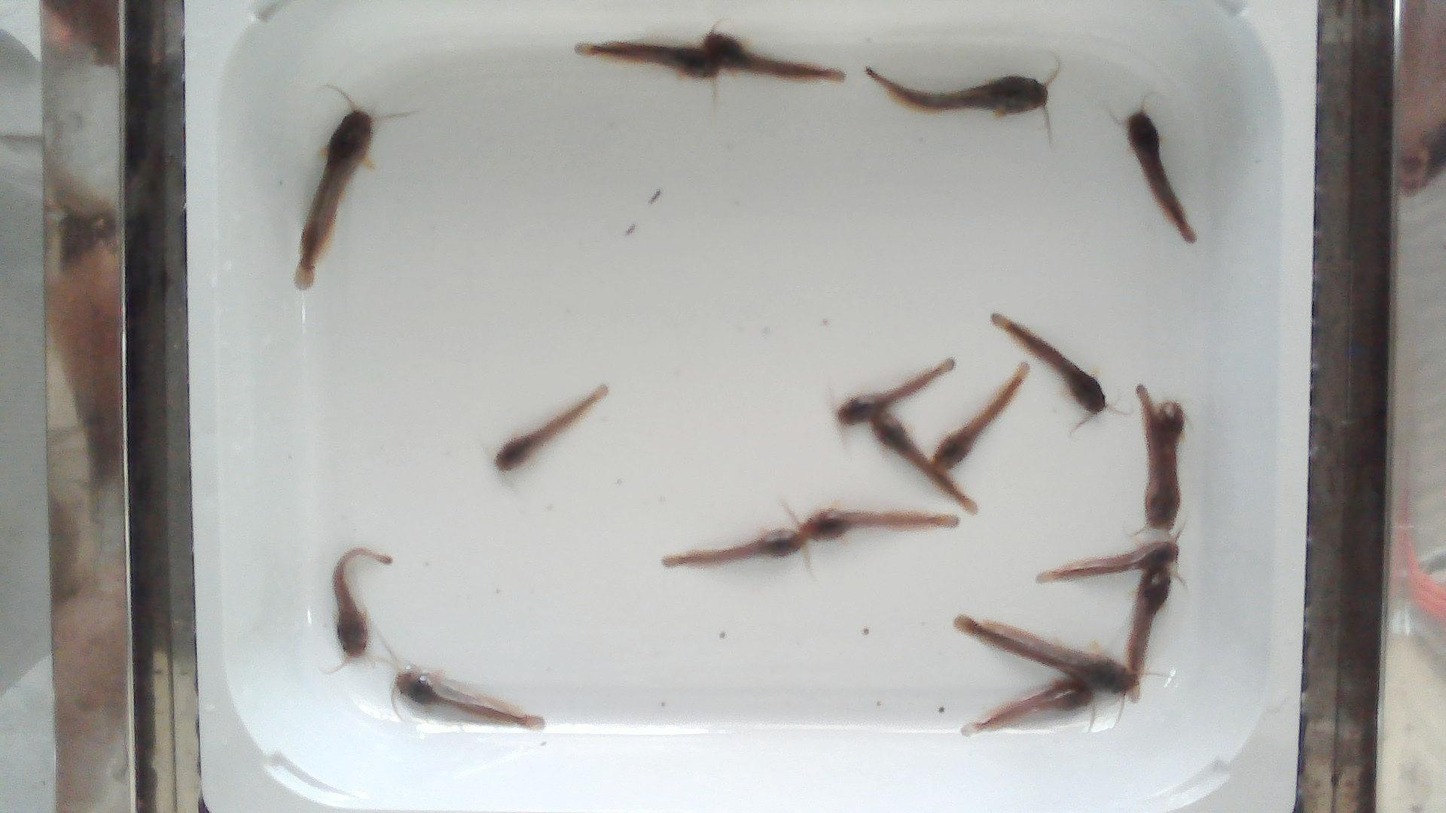lele: (954, 614, 1139, 695), (295, 106, 374, 289), (991, 314, 1106, 420), (929, 363, 1028, 473), (871, 412, 976, 515), (494, 385, 608, 472), (1126, 110, 1195, 243), (395, 669, 544, 729), (867, 67, 1048, 116), (836, 357, 954, 428), (703, 30, 846, 82), (962, 677, 1094, 733), (1037, 534, 1177, 583), (333, 548, 392, 657), (1134, 385, 1178, 528), (574, 39, 721, 80), (661, 529, 802, 570), (801, 510, 959, 542), (1128, 561, 1170, 680), (1156, 401, 1185, 504)
